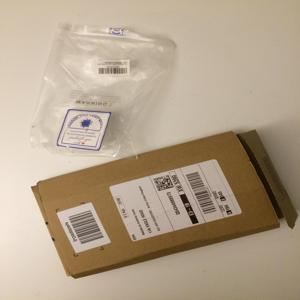cardboard: (32, 130, 299, 284)
plastic: (36, 24, 173, 161)
